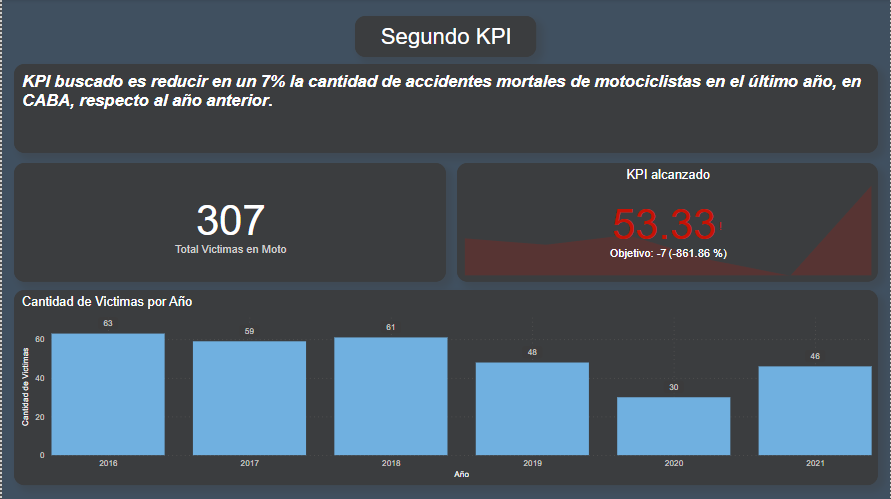

This screenshot's page, from the dashboard's own definition file:
{"tool":"powerbi","page":{"name":"KPI_2","canvas":[1280,720],"ordinal":4},"visuals":[{"type":"textbox","box":[508.3,24.5,260.6,59],"z":0},{"type":"textbox","box":[17.3,93.6,1244.2,128.2],"z":1000},{"type":"card","fields":{"Values":["Sum(kpi2.N_VICTIMAS)"]},"box":[17.3,236.2,622.1,171.4],"z":2000},{"type":"lineClusteredColumnComboChart","fields":{"Category":["kpi2.ANIO"],"Y":["Sum(kpi2.N_VICTIMAS)"]},"box":[17.3,419,1244.2,280.8],"z":3000},{"type":"kpi","title":"KPI alcanzado","fields":{"Indicator":["Median(kpi2.VARIACION)"],"TrendLine":["kpi2.ANIO"],"Goal":["kpi2.KPI_2"]},"box":[655.2,236.2,606.2,171.4],"z":4000}]}

Visuals, with their boxes in screenshot pixels (x1, y1, x2, y2), scaled from the page's 1280x720 canvas onto the 891x499 screenshot:
textbox: 354 17 535 58
textbox: 12 65 878 154
card - Sum(kpi2.N_VICTIMAS): 12 164 445 282
lineClusteredColumnComboChart - kpi2.ANIO x Sum(kpi2.N_VICTIMAS): 12 290 878 485
"KPI alcanzado" kpi: 456 164 878 282
